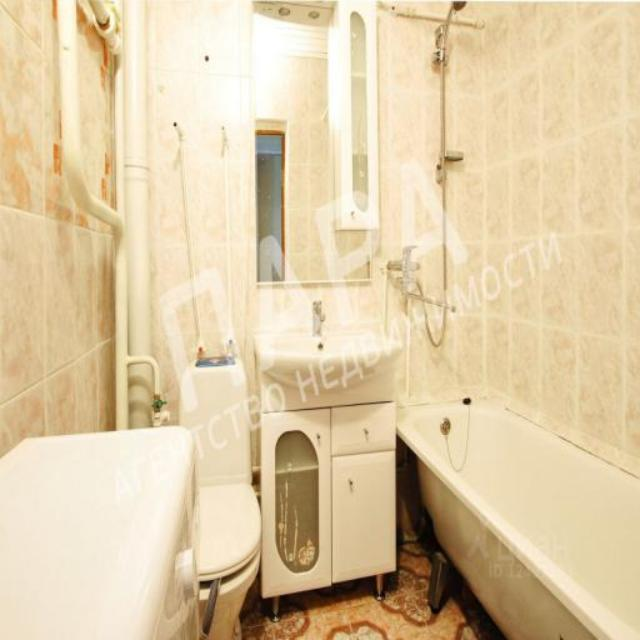Washing-Machine: (0, 426, 192, 638)
